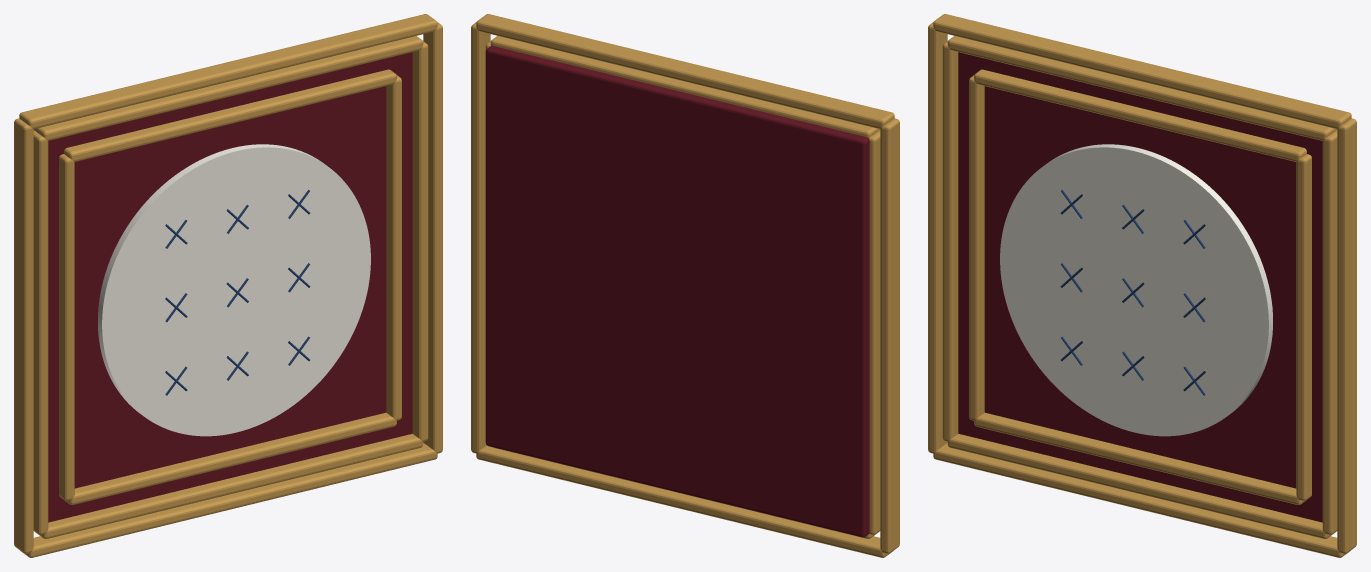
File: bcm-1000.glb
The picture shows the model from 3 angles, left to right: view 1: azimuth 30°, elevation 25°; view 2: azimuth 150°, elevation 25°; view 3: azimuth 330°, elevation 25°; orthographic projection.
Visible parts, largest first — view 1: Gilded moulding, Circular ceramic plaque, Solid frame backing, Schematic crossed-sword mark; view 2: Solid frame backing, Gilded moulding; view 3: Gilded moulding, Circular ceramic plaque, Solid frame backing, Schematic crossed-sword mark.
Part boxes in pixels (x1,y1,x2,y2): Gilded moulding: [14, 14, 442, 557]; Circular ceramic plaque: [98, 144, 370, 436]; Solid frame backing: [48, 52, 412, 522]; Schematic crossed-sword mark: [165, 190, 310, 395]; Solid frame backing: [485, 45, 869, 537]; Gilded moulding: [471, 14, 899, 557]; Gilded moulding: [928, 14, 1356, 557]; Circular ceramic plaque: [1000, 144, 1272, 436]; Solid frame backing: [958, 52, 1322, 522]; Schematic crossed-sword mark: [1060, 190, 1205, 395].
Size of the model in its own units: 1.44 by 1.44 by 0.1235.
